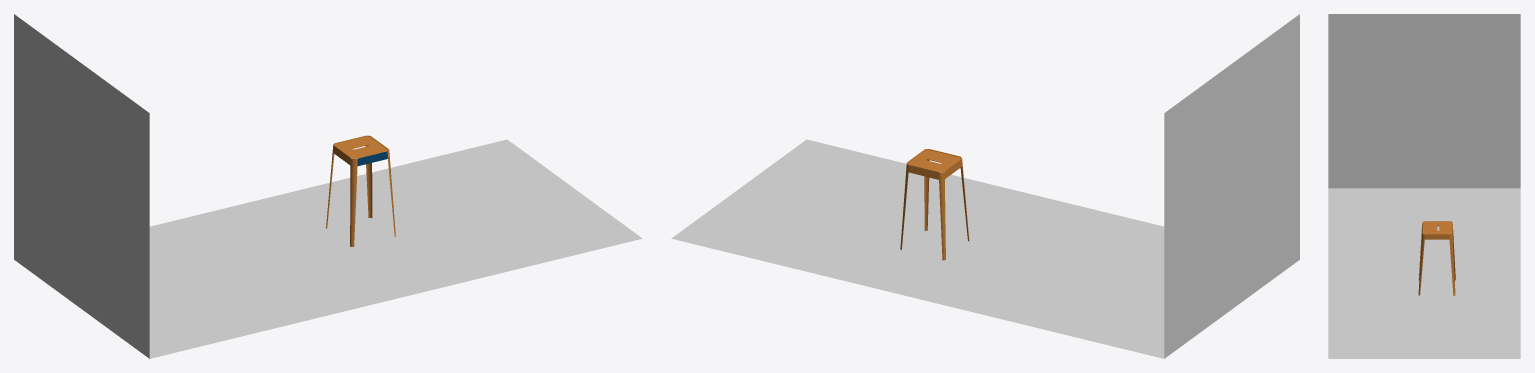
The model's file is chaise.obj.
3 renders of one model, left to right at view 1: azimuth 30°, elevation 25°; view 2: azimuth 150°, elevation 25°; view 3: azimuth 270°, elevation 25°, orthographic. The views are drawn at different scales.
Visible parts, largest first — view 1: Mesh2 Group1 Model, Mesh1 Groupe_15_1 Group1 Model; view 2: Mesh2 Group1 Model, Mesh1 Groupe_15_1 Group1 Model; view 3: Mesh2 Group1 Model, Mesh1 Groupe_15_1 Group1 Model.
Part boxes in pixels (x1,y1,x2,y2): Mesh2 Group1 Model: (14, 14, 642, 358); Mesh1 Groupe_15_1 Group1 Model: (326, 135, 395, 246); Mesh2 Group1 Model: (671, 14, 1299, 358); Mesh1 Groupe_15_1 Group1 Model: (900, 149, 969, 260); Mesh2 Group1 Model: (1328, 14, 1520, 358); Mesh1 Groupe_15_1 Group1 Model: (1418, 221, 1455, 295).
Bounding box in the file's own units: 4.2 × 2 × 2.
3 materials, 1 textured.
